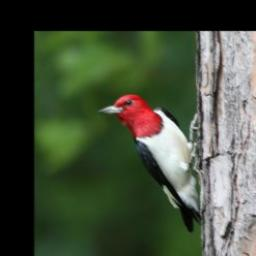Woodpecker: (94, 93, 206, 232)
